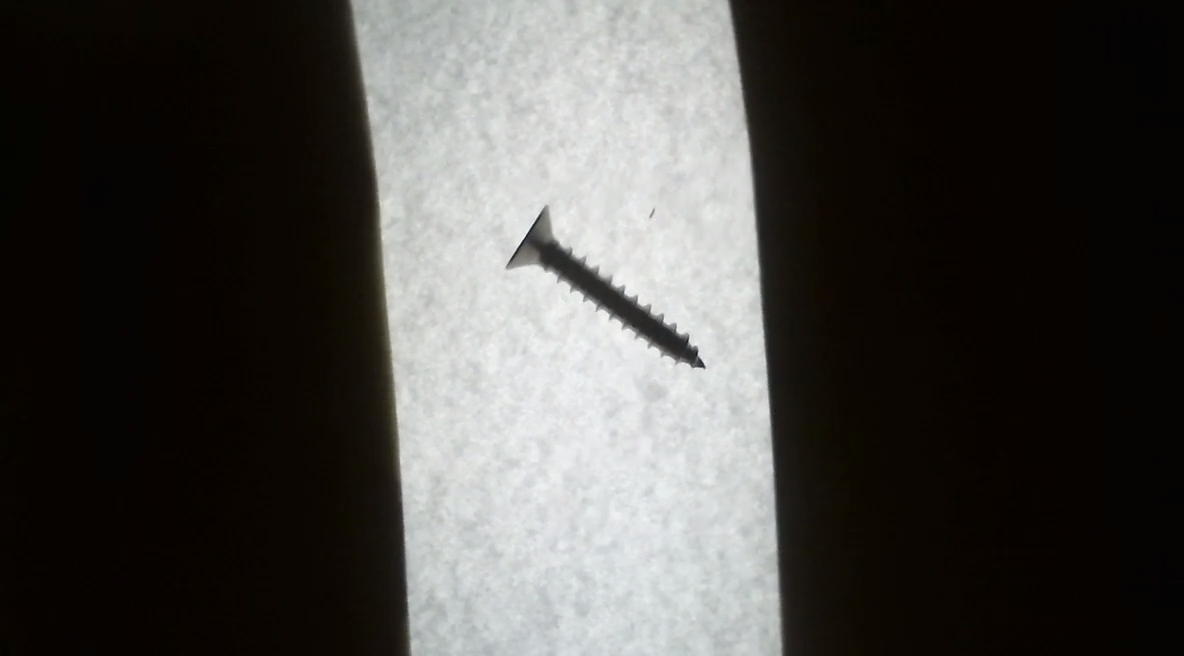S001: (494, 194, 712, 386)
